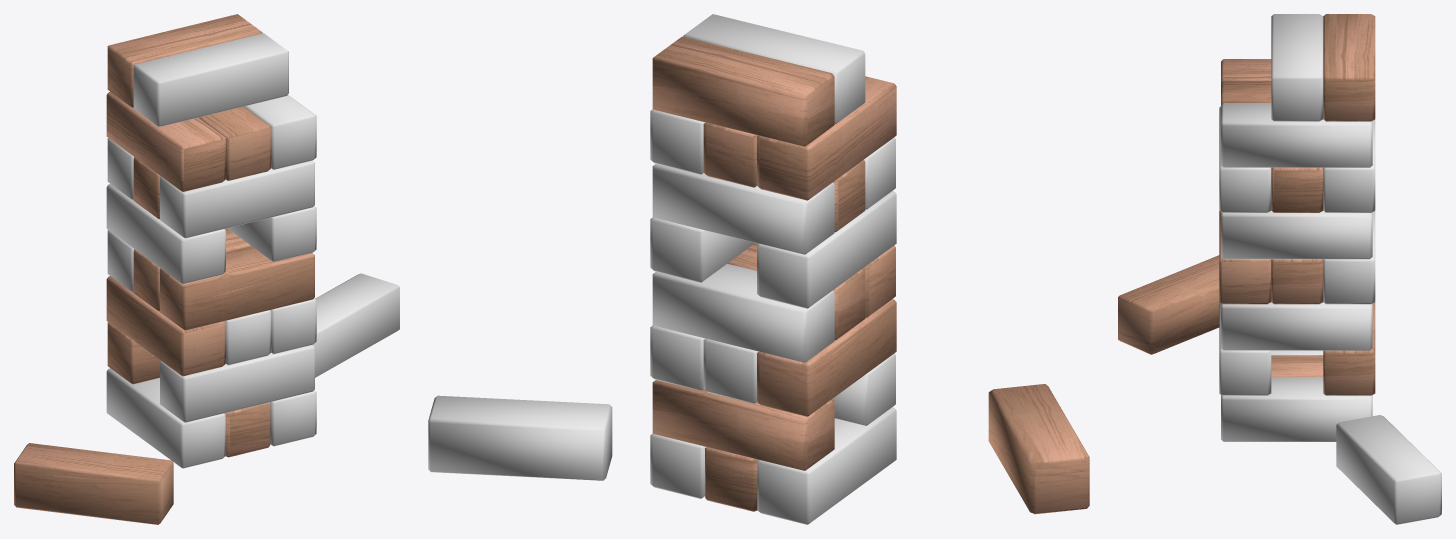
Rendered from Jenga2.fbx.
The picture shows the model from 3 angles, left to right: view 1: azimuth 30°, elevation 25°; view 2: azimuth 150°, elevation 25°; view 3: azimuth 270°, elevation 25°; orthographic projection. The views are drawn at different scales.
Visible parts, largest first — view 1: Jenga2.022, Jenga2.021, Jenga2.011, Jenga2.016, Jenga2.005, Jenga2.017, Jenga2.023, Jenga2.001, Jenga2.006, Jenga2.012, Jenga2.020, Jenga2.019 (+11 smaller); view 2: Jenga2.023, Jenga2.020, Jenga2.009, Jenga2.004, Jenga2.014, Jenga2.022, Jenga2.001, Jenga2.017, Jenga2.012, Jenga2.006, Jenga2.021, Jenga2.013 (+11 smaller); view 3: Jenga2.019, Jenga2.023, Jenga2.003, Jenga2.013, Jenga2.008, Jenga2.022, Jenga2.021, Jenga2.020, Jenga2.014, Jenga2.004, Jenga2.009, Jenga2.016 (+7 smaller).
Boxes of the visible parts, bbox=[...] form: Jenga2.022: bbox=[14, 443, 173, 524]; Jenga2.021: bbox=[133, 33, 288, 126]; Jenga2.011: bbox=[160, 246, 314, 330]; Jenga2.016: bbox=[160, 160, 314, 238]; Jenga2.005: bbox=[160, 345, 314, 422]; Jenga2.017: bbox=[106, 91, 225, 191]; Jenga2.023: bbox=[312, 273, 399, 377]; Jenga2.001: bbox=[106, 368, 225, 468]; Jenga2.006: bbox=[106, 276, 225, 376]; Jenga2.012: bbox=[106, 184, 225, 284]; Jenga2.020: bbox=[107, 14, 262, 107]; Jenga2.019: bbox=[244, 95, 316, 169]; Jenga2.023: bbox=[428, 395, 612, 480]; Jenga2.020: bbox=[652, 36, 834, 146]; Jenga2.009: bbox=[652, 263, 834, 362]; Jenga2.004: bbox=[652, 380, 834, 470]; Jenga2.014: bbox=[652, 164, 834, 254]; Jenga2.022: bbox=[988, 384, 1089, 514]; Jenga2.001: bbox=[757, 407, 896, 524]; Jenga2.017: bbox=[757, 76, 896, 200]; Jenga2.012: bbox=[757, 191, 896, 308]; Jenga2.006: bbox=[757, 299, 896, 416]; Jenga2.021: bbox=[683, 14, 865, 124]; Jenga2.013: bbox=[650, 217, 755, 282]; Jenga2.019: bbox=[1221, 103, 1372, 167]; Jenga2.023: bbox=[1336, 415, 1441, 524]; Jenga2.003: bbox=[1221, 377, 1372, 441]; Jenga2.013: bbox=[1221, 210, 1372, 259]; Jenga2.008: bbox=[1221, 302, 1372, 350]; Jenga2.022: bbox=[1118, 255, 1219, 354]; Jenga2.021: bbox=[1271, 14, 1323, 121]; Jenga2.020: bbox=[1323, 14, 1375, 121]; Jenga2.014: bbox=[1323, 119, 1375, 212]; Jenga2.004: bbox=[1323, 302, 1375, 395]; Jenga2.009: bbox=[1323, 211, 1375, 304]; Jenga2.016: bbox=[1219, 106, 1271, 212].
Size of the model in its own units: 5.38 by 8.97 by 6.71.
